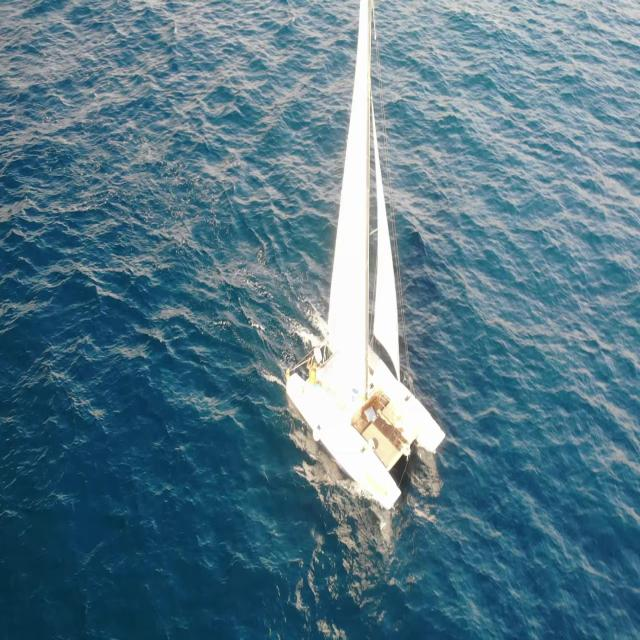sailboat: (284, 0, 452, 517)
